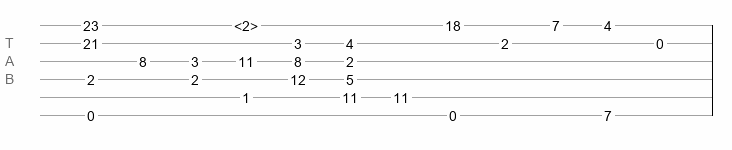0: (87, 108, 95, 118), (449, 108, 457, 118), (656, 36, 664, 46)
1: (242, 90, 250, 100)
11: (238, 54, 254, 64), (342, 90, 358, 100), (393, 90, 409, 100)
12: (290, 72, 306, 82)
18: (445, 18, 461, 28)
2: (87, 72, 95, 82), (191, 72, 199, 82), (346, 54, 354, 64), (501, 36, 509, 46)
21: (83, 36, 99, 46)
23: (83, 18, 99, 28)
3: (191, 54, 199, 64), (294, 36, 302, 46)
4: (346, 36, 354, 46), (604, 18, 612, 28)
5: (346, 72, 354, 82)
7: (552, 18, 560, 28), (604, 108, 612, 118)
8: (139, 54, 147, 64), (294, 54, 302, 64)
harmonic: (234, 18, 258, 28)
